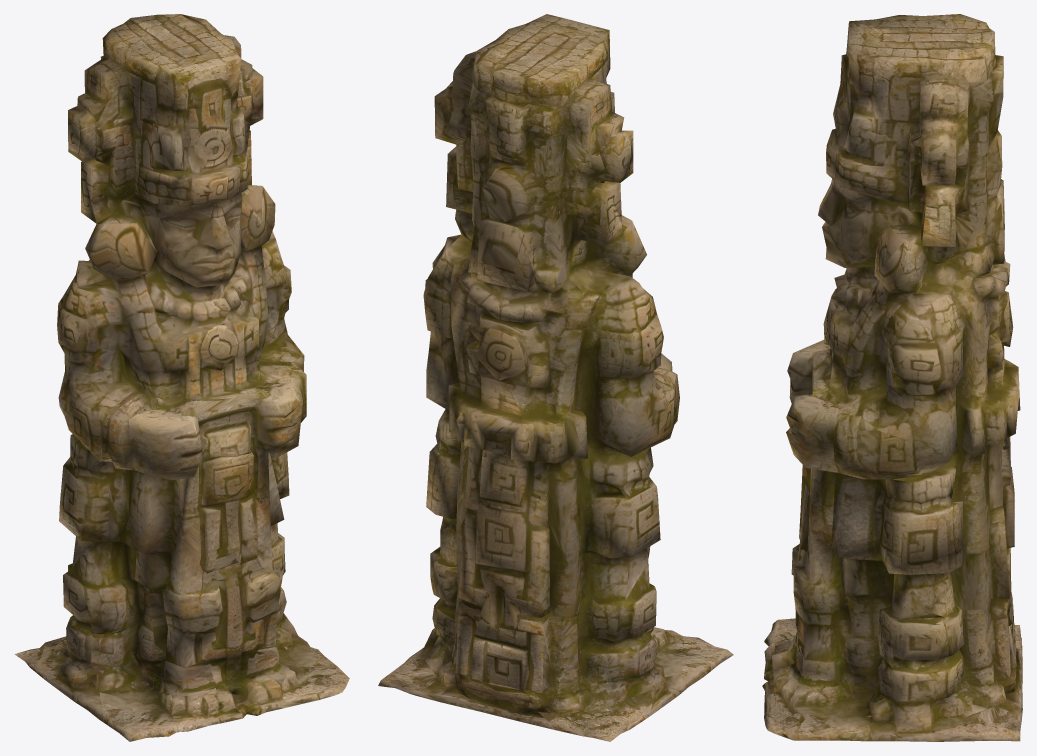
The model's file is PUZ_GuardianMaya_01_LOD2.fbx.
The picture shows the model from 3 angles, left to right: view 1: azimuth 30°, elevation 25°; view 2: azimuth 150°, elevation 25°; view 3: azimuth 270°, elevation 25°; orthographic projection. The views are drawn at different scales.
Visible parts, largest first — view 1: PUZ_GuardianMaya_01_LOD2; view 2: PUZ_GuardianMaya_01_LOD2; view 3: PUZ_GuardianMaya_01_LOD2.
Part boxes in pixels (<box>): PUZ_GuardianMaya_01_LOD2: <box>14,14,349,741</box>; PUZ_GuardianMaya_01_LOD2: <box>378,14,733,741</box>; PUZ_GuardianMaya_01_LOD2: <box>762,14,1022,741</box>.
Bounding box in the file's own units: 0.7578 × 1.93 × 0.7045.
